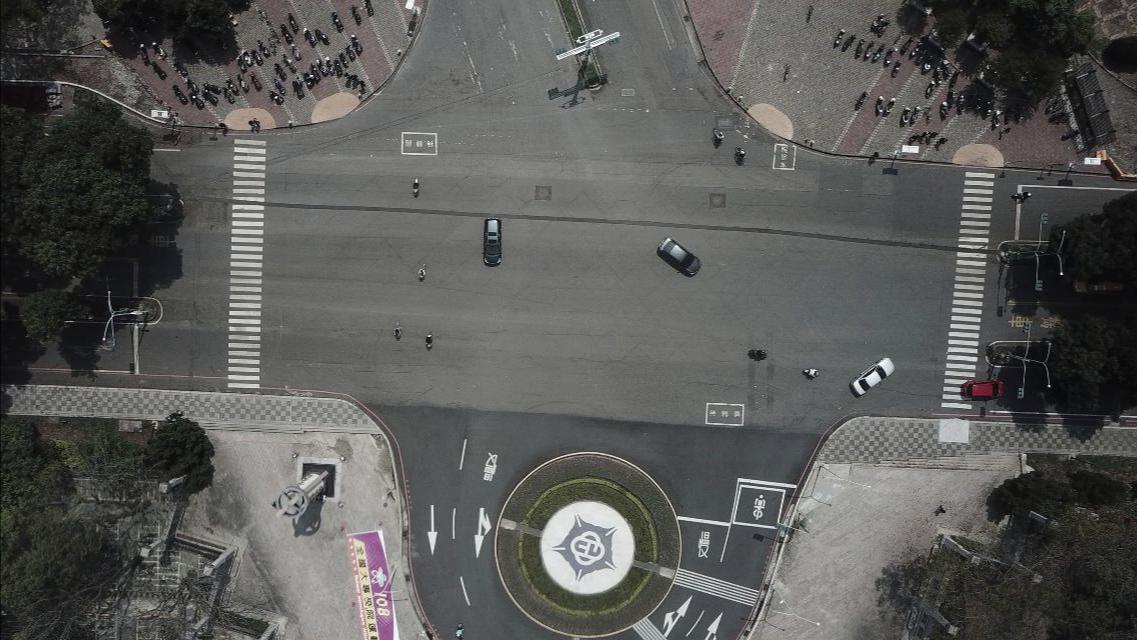vehicle: (849, 355, 897, 399), (656, 235, 704, 278), (482, 214, 502, 268), (1071, 272, 1124, 292), (959, 379, 1007, 400)
